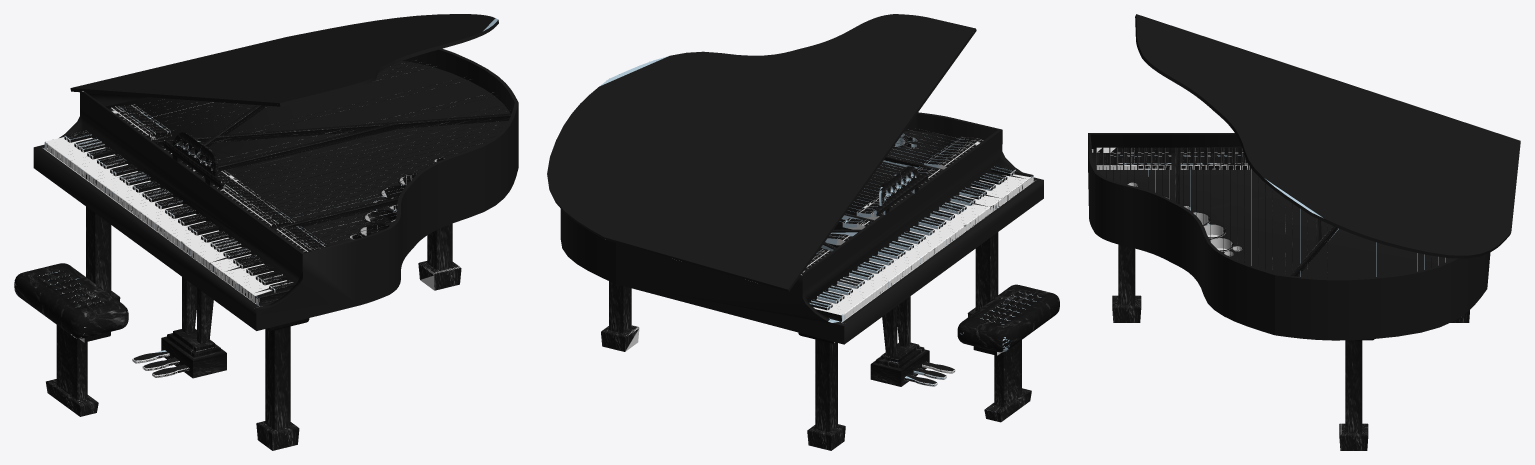
The model's file is grandpiano2.glb.
The picture shows the model from 3 angles, left to right: view 1: azimuth 30°, elevation 25°; view 2: azimuth 150°, elevation 25°; view 3: azimuth 270°, elevation 25°; orthographic projection. The views are drawn at different scales.
Parts seen in each view (by area): view 1: BabyGrandPiano1; view 2: BabyGrandPiano1; view 3: BabyGrandPiano1.
Boxes of the visible parts, left/top/right/bottom form: BabyGrandPiano1: left=14, top=14, right=518, bottom=450; BabyGrandPiano1: left=547, top=14, right=1059, bottom=450; BabyGrandPiano1: left=1088, top=14, right=1520, bottom=450.
Size of the model in its own units: 2.35 by 1.57 by 2.01.
Materials: 4 (1 with a texture image).
